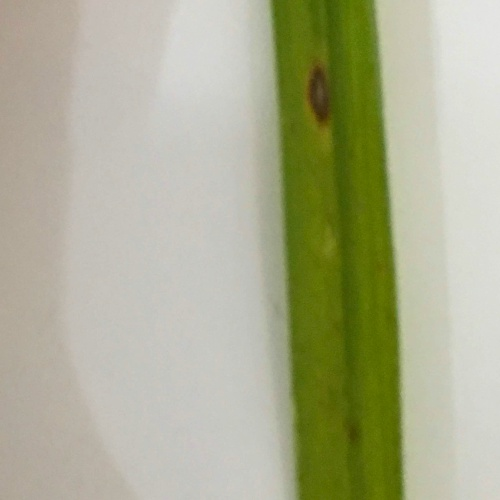Busuk Leher: (298, 57, 343, 133)
